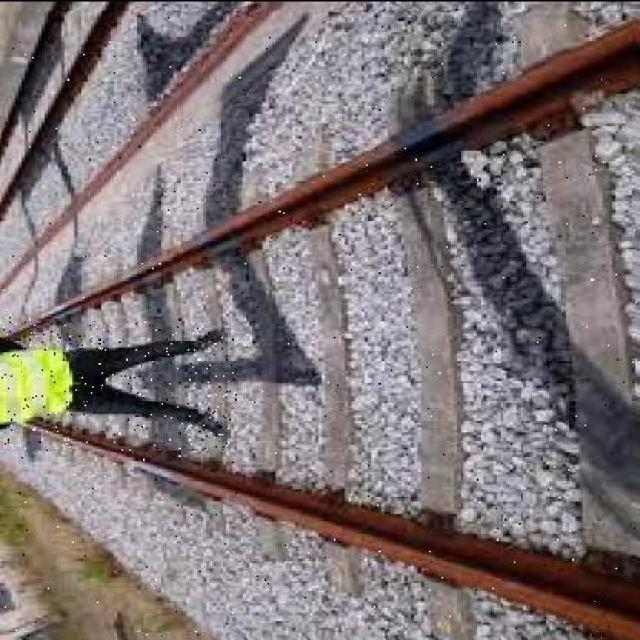rail: (2, 11, 638, 639)
